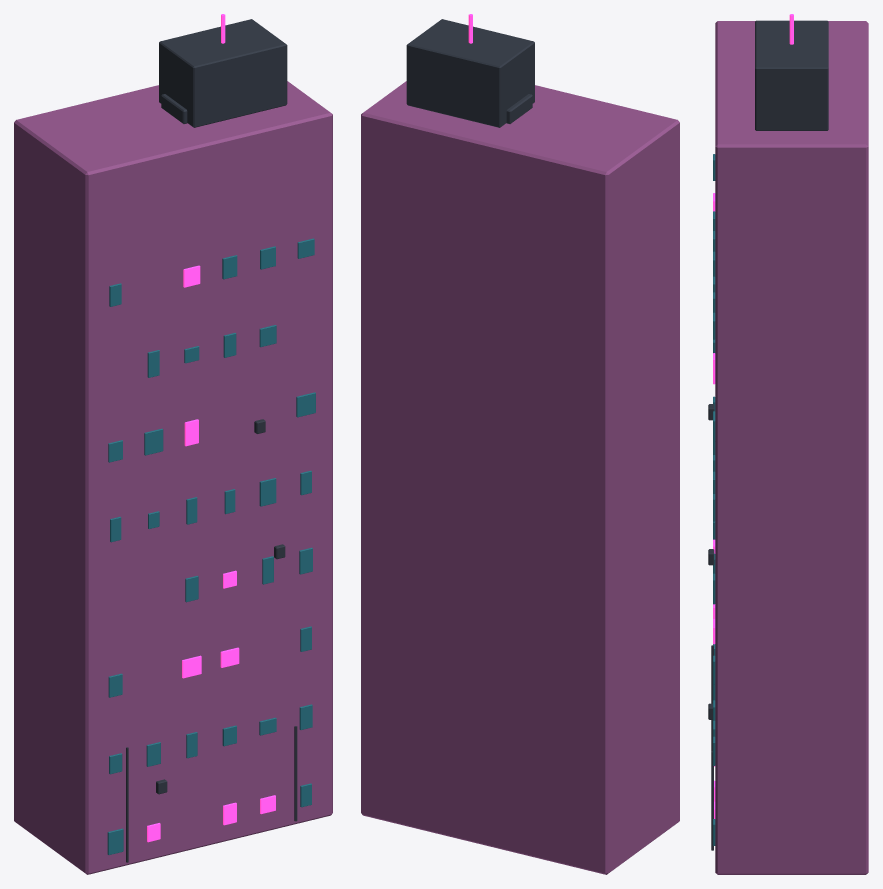
The model's file is building_017_seed11.glb.
3 renders of one model, left to right at view 1: azimuth 30°, elevation 25°; view 2: azimuth 150°, elevation 25°; view 3: azimuth 270°, elevation 25°, orthographic. The views are drawn at different scales.
Visible parts, largest first — view 1: building_017_seed11; view 2: building_017_seed11; view 3: building_017_seed11.
Part boxes in pixels (left/top/right/bottom): building_017_seed11: left=14, top=14, right=332, bottom=874; building_017_seed11: left=361, top=14, right=679, bottom=874; building_017_seed11: left=708, top=14, right=868, bottom=874.
Bounding box in the file's own units: 9.28 × 28.35 × 4.99.
